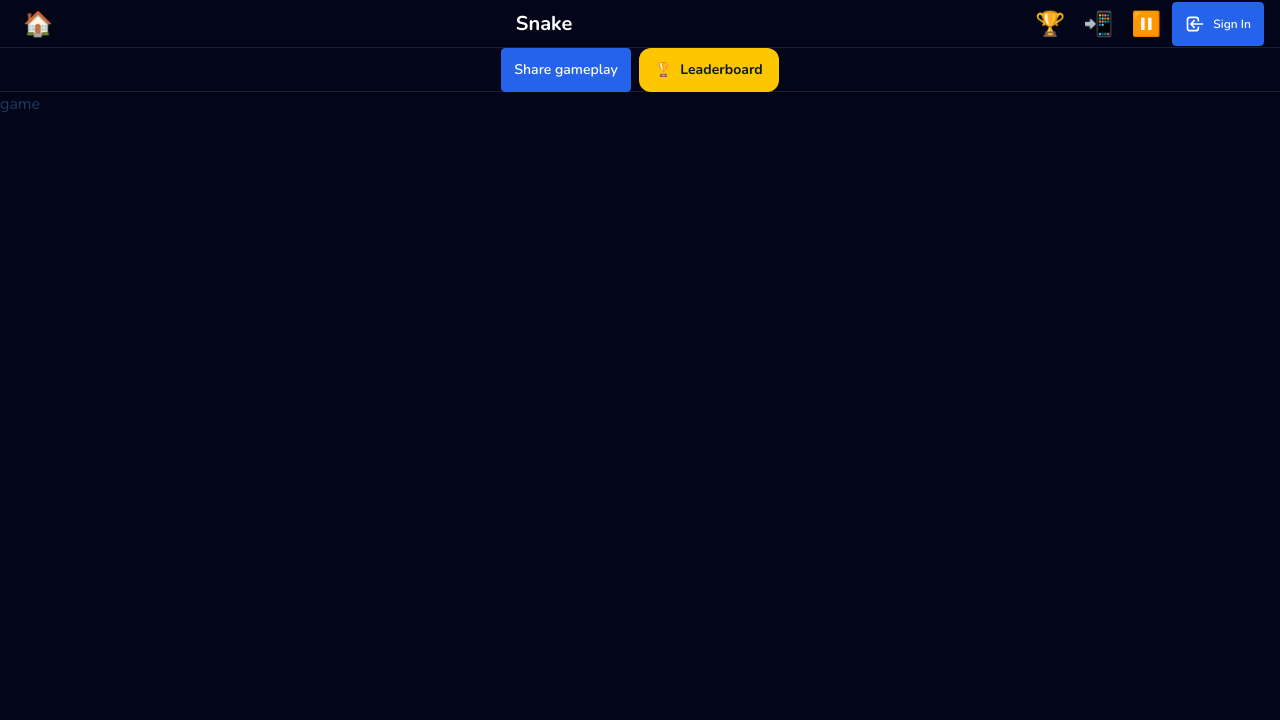
Test: IOSInstallPrompt › during a game (issue #32) › remembers don't-show-again from the pause menu
Click the button named "Pause game" at point(1146, 24), box [1124,2,1168,46]
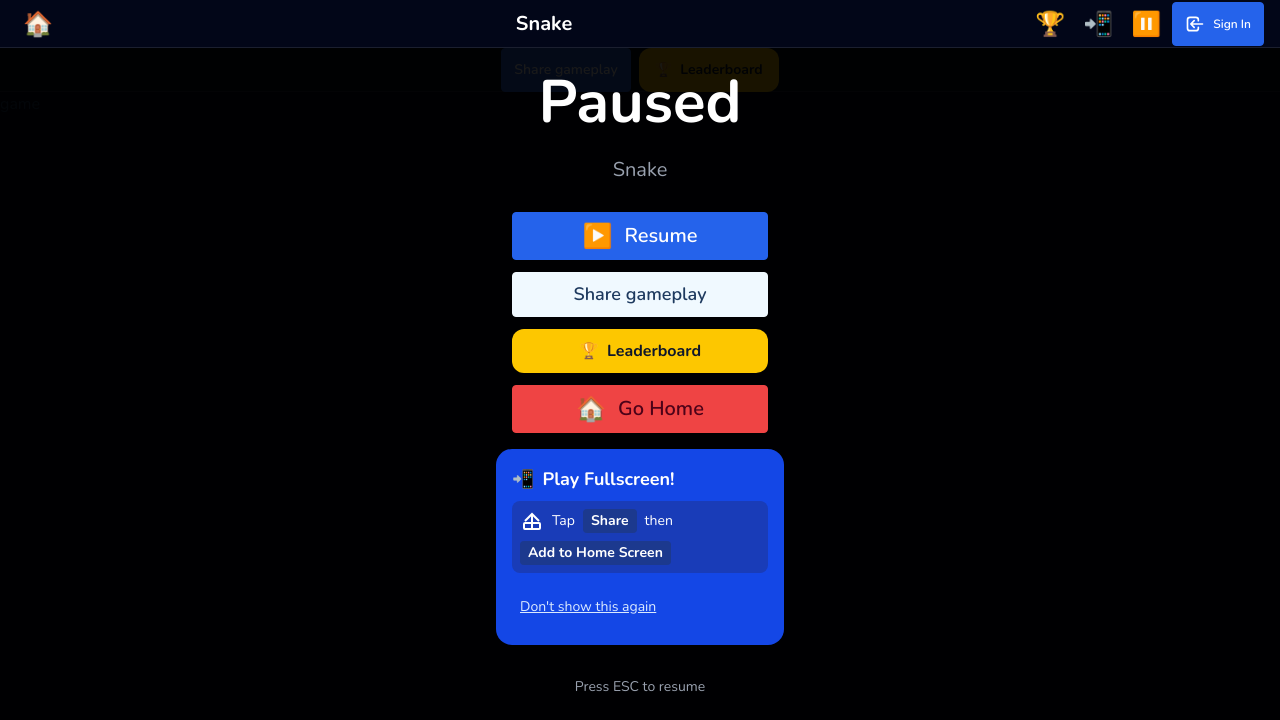
Click the button "Don't show this again" at point(588, 606), box [512,584,664,628]
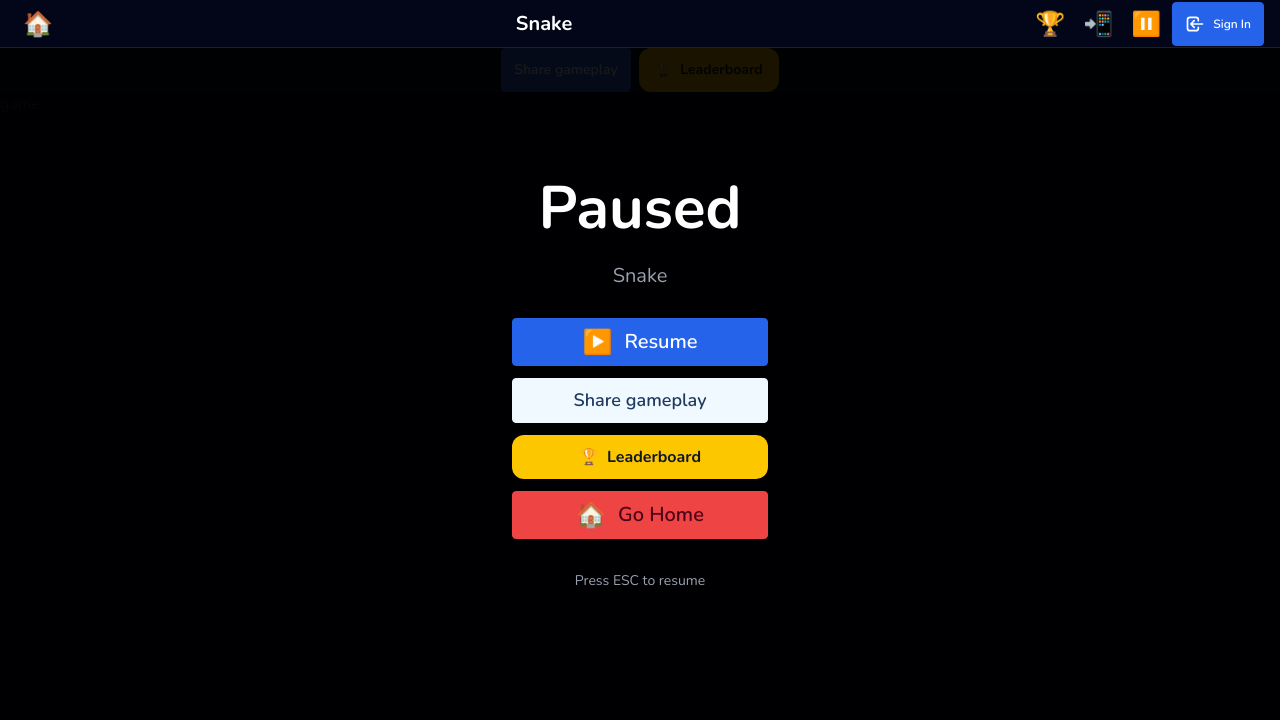
expect the element with test id "ios-install-tip" is gone: met
